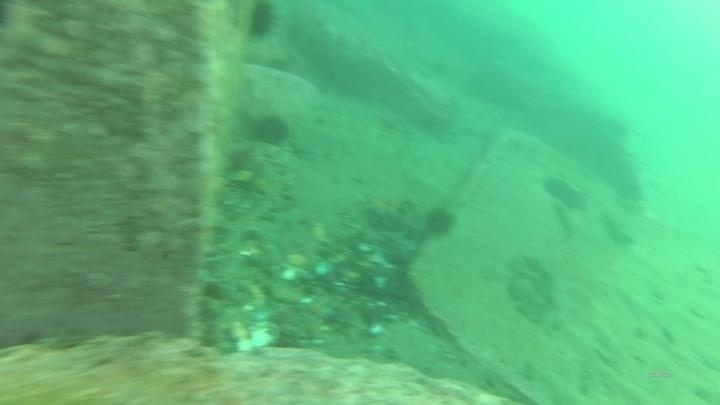echinus: (247, 111, 292, 149), (243, 1, 279, 44), (421, 204, 458, 242), (560, 188, 590, 218), (540, 173, 569, 202)
starfish: (598, 210, 639, 254), (356, 189, 404, 225)
